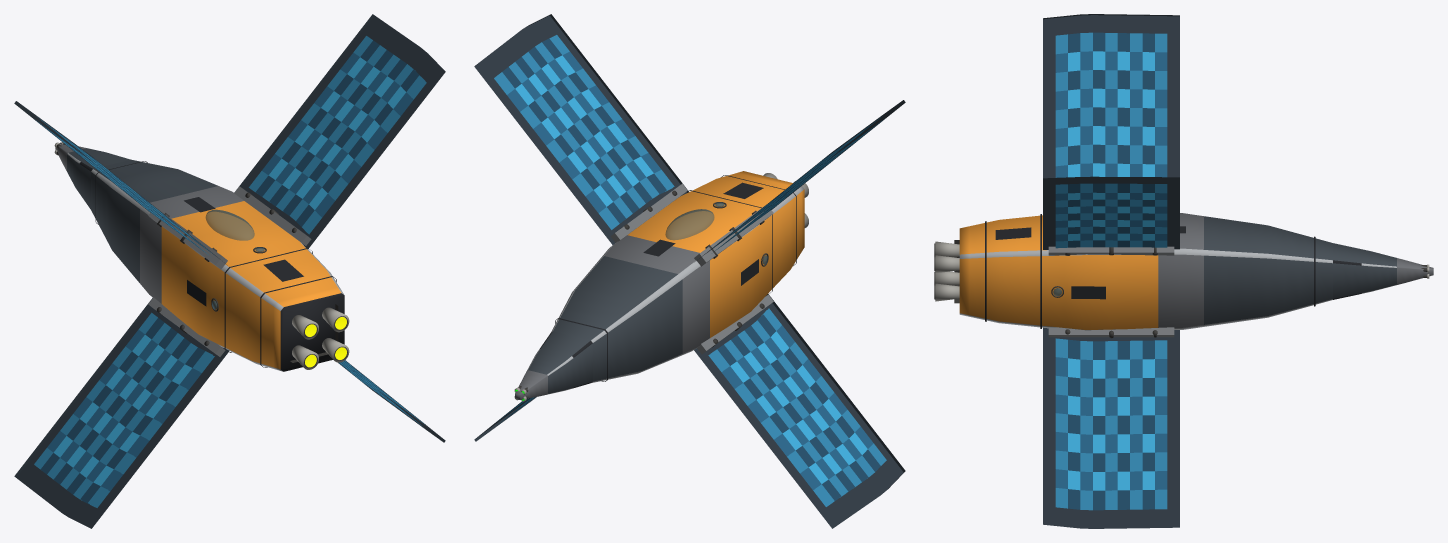
File: Ship_Crosspanel_7.glb
The picture shows the model from 3 angles, left to right: view 1: azimuth 30°, elevation 25°; view 2: azimuth 150°, elevation 25°; view 3: azimuth 270°, elevation 25°; orthographic projection. The views are drawn at different scales.
Visible parts, largest first — view 1: Fuselage_SquareBody, SolarPanelWing_LowerLeftRidge_RectangularPhotovoltaicGrid, SolarPanelWing_TopRightRidge_RectangularPhotovoltaicGrid, SolarPanelWing_TopLeftRidge_RectangularPhotovoltaicGrid, Nose_SquareTaperedForwardSection, Canopy_DorsalLowSquareBubble, SolarPanelWing_TopLeftRidge_RootHingeClamp, SolarPanelWing_TopRightRidge_RootHingeClamp, SolarPanelWing_LowerRightRidge_RectangularPhotovoltaicGrid, SolarPanelWing_LowerLeftRidge_RootHingeClamp, HullAccessPanel_TopAft, EngineEmitter; view 2: Fuselage_SquareBody, SolarPanelWing_LowerLeftRidge_RectangularPhotovoltaicGrid, SolarPanelWing_TopRightRidge_RectangularPhotovoltaicGrid, Nose_SquareTaperedForwardSection, SolarPanelWing_TopLeftRidge_RectangularPhotovoltaicGrid, Canopy_DorsalLowSquareBubble, SolarPanelWing_TopLeftRidge_RootHingeClamp, SolarPanelWing_TopRightRidge_RootHingeClamp, SolarPanelWing_LowerLeftRidge_RootHingeClamp; view 3: Fuselage_SquareBody, SolarPanelWing_LowerRightRidge_RectangularPhotovoltaicGrid, SolarPanelWing_TopLeftRidge_RectangularPhotovoltaicGrid, SolarPanelWing_TopRightRidge_RectangularPhotovoltaicGrid, Nose_SquareTaperedForwardSection, SolarPanelWing_LowerRightRidge_RootHingeClamp, SolarPanelWing_TopRightRidge_RootHingeClamp.
Boxes of the visible parts, <box> form: Fuselage_SquareBody: <box>91,159,344,371</box>; SolarPanelWing_LowerLeftRidge_RectangularPhotovoltaicGrid: <box>14,298,229,528</box>; SolarPanelWing_TopRightRidge_RectangularPhotovoltaicGrid: <box>234,14,445,249</box>; SolarPanelWing_TopLeftRidge_RectangularPhotovoltaicGrid: <box>14,101,227,265</box>; Nose_SquareTaperedForwardSection: <box>55,142,130,209</box>; Canopy_DorsalLowSquareBubble: <box>205,209,254,240</box>; SolarPanelWing_TopLeftRidge_RootHingeClamp: <box>148,207,227,269</box>; SolarPanelWing_TopRightRidge_RootHingeClamp: <box>234,186,311,245</box>; SolarPanelWing_LowerRightRidge_RectangularPhotovoltaicGrid: <box>338,360,445,442</box>; SolarPanelWing_LowerLeftRidge_RootHingeClamp: <box>148,297,225,356</box>; HullAccessPanel_TopAft: <box>263,259,303,281</box>; EngineEmitter: <box>305,317,346,367</box>; Fuselage_SquareBody: <box>551,171,804,382</box>; SolarPanelWing_LowerLeftRidge_RectangularPhotovoltaicGrid: <box>694,294,905,528</box>; SolarPanelWing_TopRightRidge_RectangularPhotovoltaicGrid: <box>474,14,688,244</box>; Nose_SquareTaperedForwardSection: <box>515,331,592,399</box>; SolarPanelWing_TopLeftRidge_RectangularPhotovoltaicGrid: <box>697,100,905,260</box>; Canopy_DorsalLowSquareBubble: <box>665,209,714,240</box>; SolarPanelWing_TopLeftRidge_RootHingeClamp: <box>694,205,773,266</box>; SolarPanelWing_TopRightRidge_RootHingeClamp: <box>610,183,687,242</box>; SolarPanelWing_LowerLeftRidge_RootHingeClamp: <box>697,294,773,354</box>; Fuselage_SquareBody: <box>959,213,1332,330</box>; SolarPanelWing_LowerRightRidge_RectangularPhotovoltaicGrid: <box>1043,327,1179,528</box>; SolarPanelWing_TopLeftRidge_RectangularPhotovoltaicGrid: <box>1043,14,1179,178</box>; SolarPanelWing_TopRightRidge_RectangularPhotovoltaicGrid: <box>1043,176,1179,249</box>; Nose_SquareTaperedForwardSection: <box>1333,243,1433,299</box>; SolarPanelWing_LowerRightRidge_RootHingeClamp: <box>1048,327,1174,337</box>; SolarPanelWing_TopRightRidge_RootHingeClamp: <box>1048,246,1174,255</box>.
Bounding box in the file's own units: 6.26 × 6.26 × 8.03.
